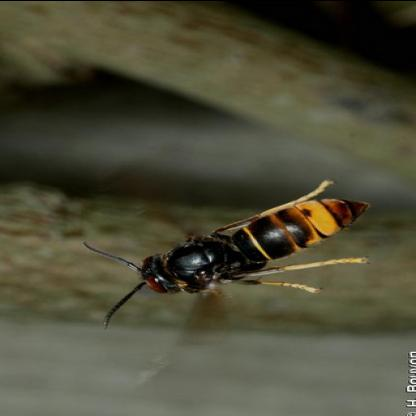asian: (81, 169, 383, 331)
